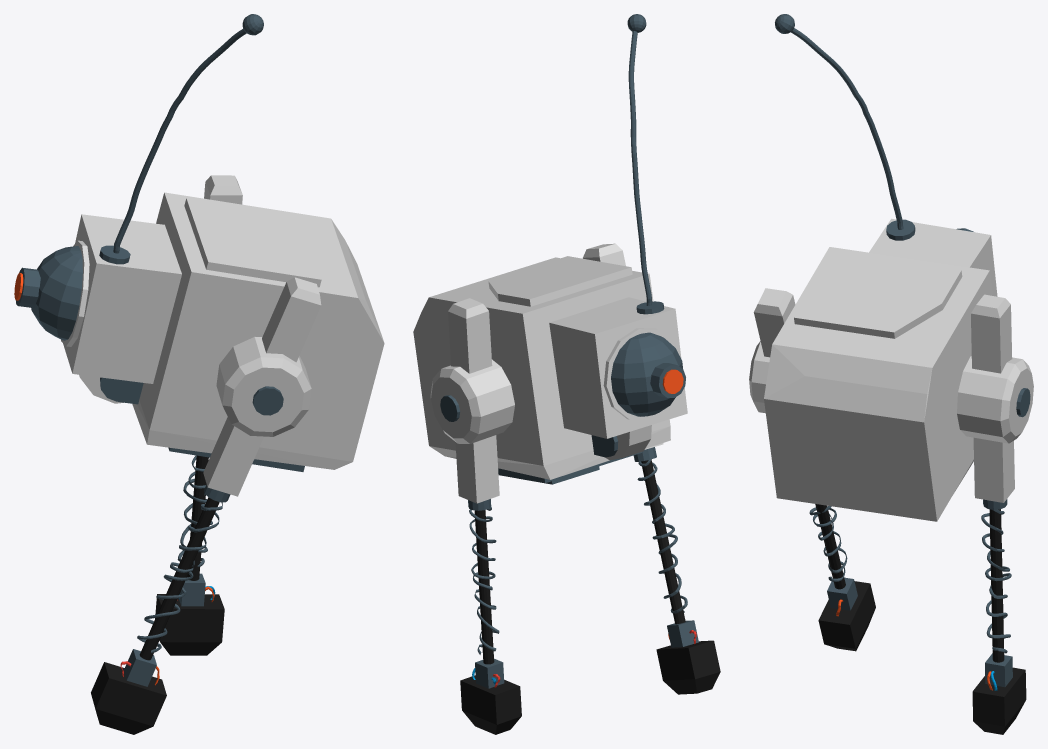
File: sloppy-joe.glb
3 views of the same model, side by side, from view 1: azimuth 30°, elevation 25°; view 2: azimuth 150°, elevation 25°; view 3: azimuth 270°, elevation 25° (orthographic). The views are drawn at different scales.
Visible parts, largest first — view 1: group1415628262, group1646956445, group1230869374, group1842255113, group220092753, group852448106, group1500843361, group1411680767, group2129217226, group601894907, group1875791665, group1280923859 (+6 smaller); view 2: group1415628262, group1646956445, group1875791665, group453348770, group1230869374, group1500843361, group852448106, group1411680767, group2129217226, group601894907, group1280923859, group486942066 (+6 smaller); view 3: group1415628262, group1230869374, group1875791665, group453348770, group1646956445, group1411680767, group852448106, group220092753, group1280923859, group601894907, group1842255113, group2129217226 (+5 smaller).
Part boxes in pixels (x1,y1,x2,y2): group1415628262: [132, 192, 384, 469]; group1646956445: [63, 214, 181, 383]; group1230869374: [184, 198, 321, 287]; group1842255113: [216, 337, 311, 436]; group220092753: [203, 277, 321, 496]; group852448106: [91, 662, 166, 734]; group1500843361: [31, 246, 82, 340]; group1411680767: [155, 594, 224, 655]; group2129217226: [139, 497, 219, 660]; group601894907: [113, 29, 246, 253]; group1875791665: [204, 175, 242, 204]; group1280923859: [187, 455, 208, 580]; group1415628262: [413, 257, 670, 479]; group1646956445: [549, 297, 687, 438]; group1875791665: [448, 298, 499, 503]; group453348770: [430, 359, 514, 443]; group1230869374: [488, 256, 632, 306]; group1500843361: [611, 332, 683, 416]; group852448106: [656, 640, 720, 694]; group1411680767: [460, 675, 521, 734]; group2129217226: [641, 459, 685, 624]; group601894907: [628, 31, 652, 305]; group1280923859: [474, 510, 494, 664]; group486942066: [603, 328, 677, 419]; group1415628262: [764, 247, 992, 521]; group1230869374: [794, 251, 962, 338]; group1875791665: [971, 294, 1014, 502]; group453348770: [957, 356, 1033, 443]; group1646956445: [869, 218, 997, 296]; group1411680767: [972, 667, 1026, 734]; group852448106: [818, 581, 875, 651]; group220092753: [753, 288, 795, 357]; group1280923859: [989, 509, 1004, 662]; group601894907: [791, 28, 903, 229]; group1842255113: [749, 341, 769, 413]; group2129217226: [815, 504, 845, 589].
Size of the model in its own units: 1.2 by 2.61 by 0.9771.
